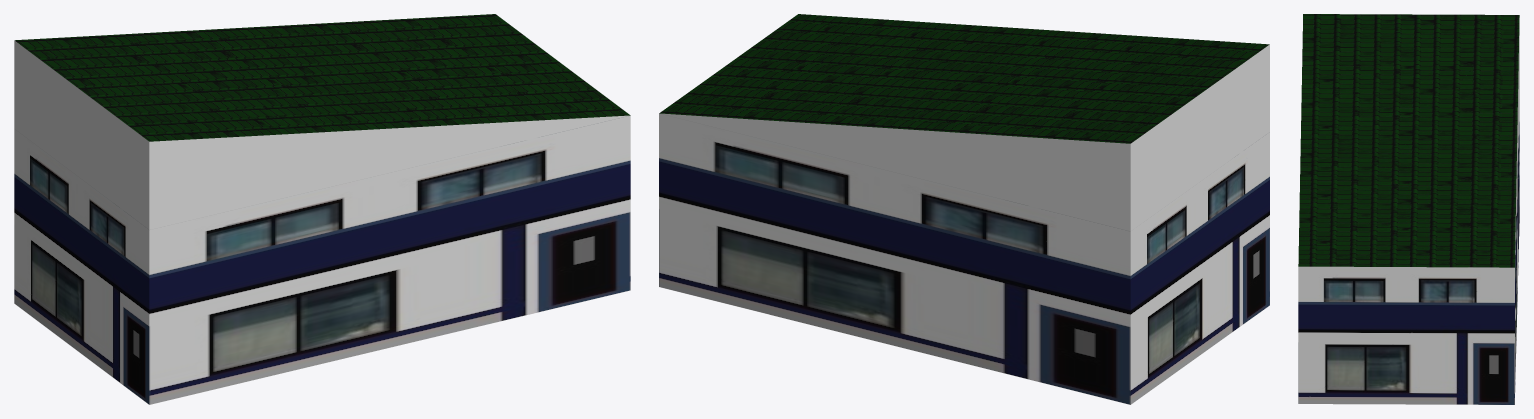
3 renders of one model, left to right at view 1: azimuth 30°, elevation 25°; view 2: azimuth 150°, elevation 25°; view 3: azimuth 270°, elevation 25°, orthographic. The views are drawn at different scales.
Parts seen in each view (by area): view 1: CityEngineMaterial_2_m, CityEngineMaterial_13_m, CityEngineMaterial_3_m; view 2: CityEngineMaterial_2_m, CityEngineMaterial_13_m, CityEngineMaterial_3_m; view 3: CityEngineMaterial_13_m, CityEngineMaterial_2_m, CityEngineMaterial_3_m.
Boxes of the visible parts, left/top/right/bottom form: CityEngineMaterial_2_m: left=14, top=115, right=630, bottom=404; CityEngineMaterial_13_m: left=15, top=14, right=630, bottom=141; CityEngineMaterial_3_m: left=14, top=40, right=628, bottom=229; CityEngineMaterial_2_m: left=659, top=113, right=1269, bottom=404; CityEngineMaterial_13_m: left=659, top=14, right=1269, bottom=143; CityEngineMaterial_3_m: left=659, top=44, right=1269, bottom=231; CityEngineMaterial_13_m: left=1298, top=14, right=1519, bottom=267; CityEngineMaterial_2_m: left=1298, top=86, right=1519, bottom=404; CityEngineMaterial_3_m: left=1515, top=18, right=1519, bottom=254.
Size of the model in its own units: 21.72 by 11.36 by 11.01.
